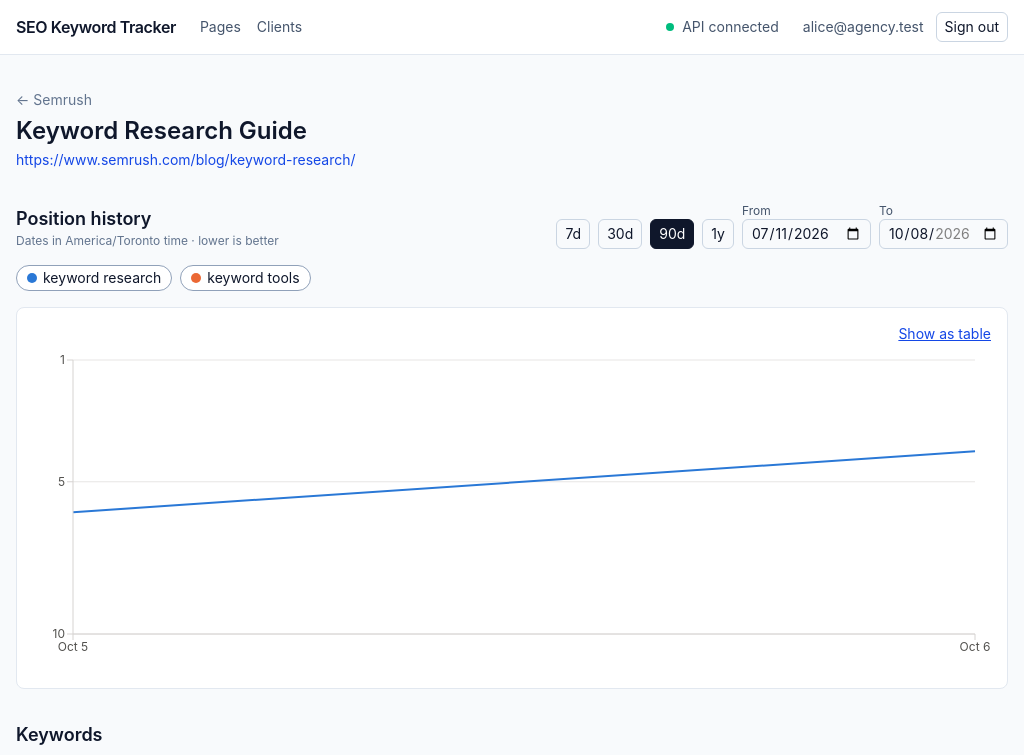
Test: page detail › loads the last 90 days by default and lists the values in the table view
The image size is (1024, 755).
Click the button "Show as table": [945, 334] box [898, 324, 991, 344]
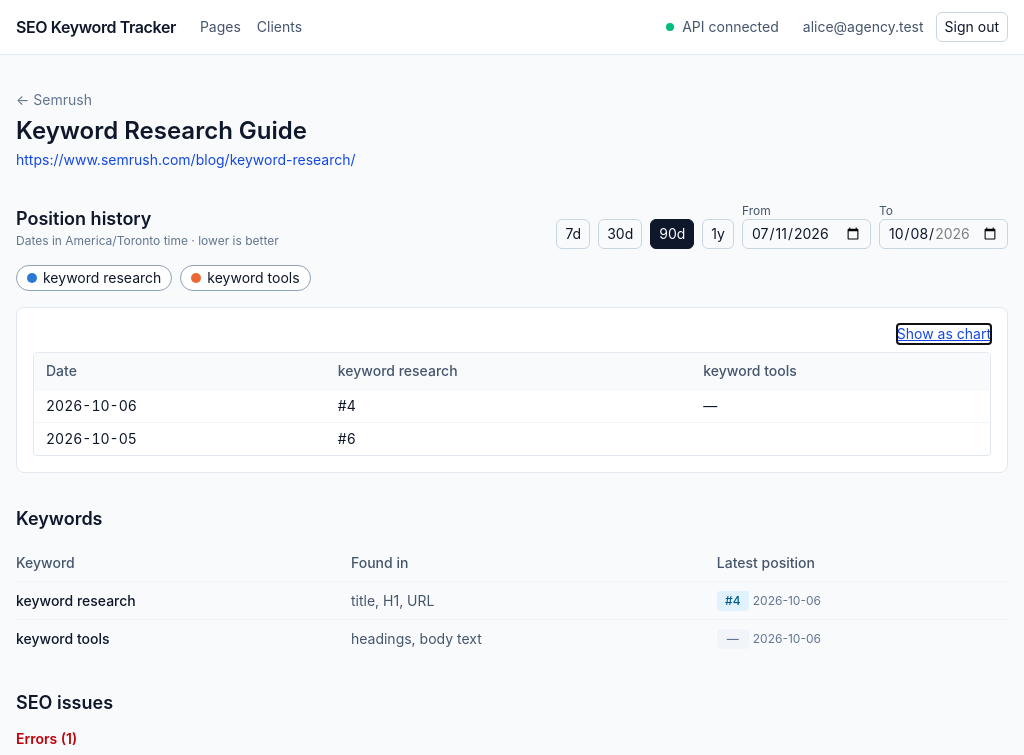
Check: the text "#4" is shown, box [326, 390, 691, 422]
Check: the text "—" is shown, box [691, 390, 990, 422]
